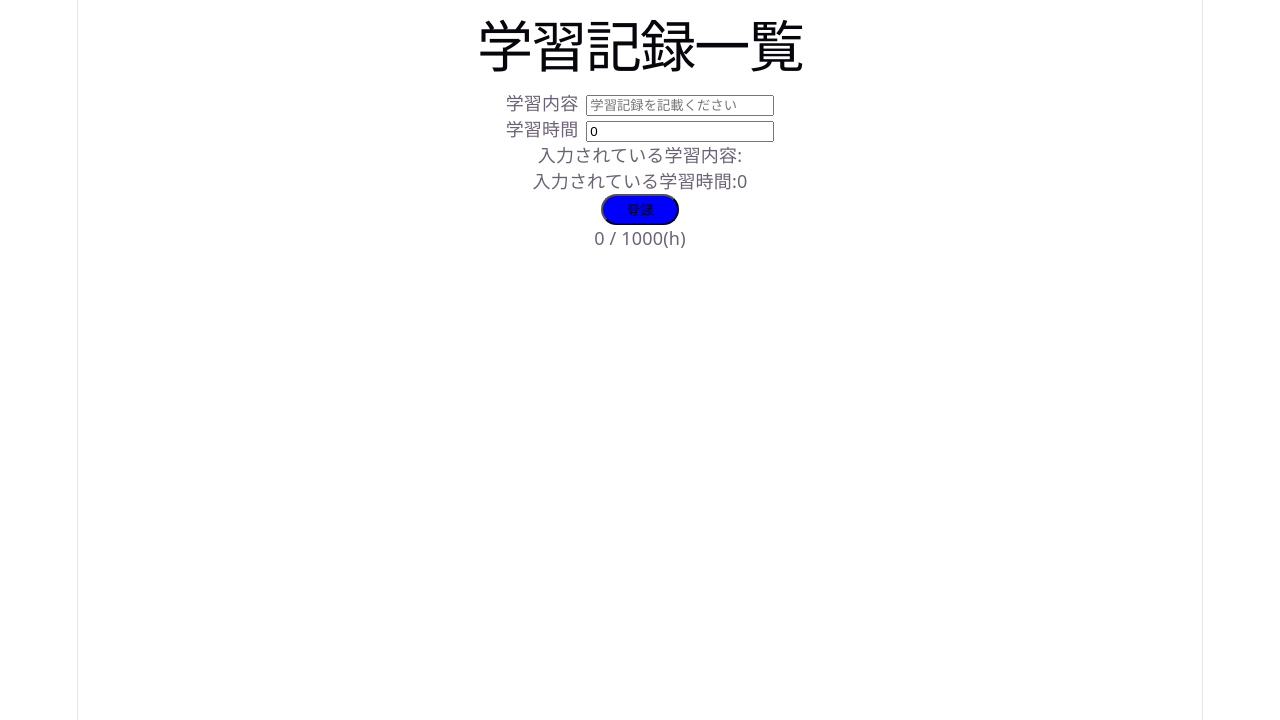
App › 登録ボタンで追加される
Expected: the text "0 / 1000(h)" is shown, [594,226,686,250]
Type "Vitest" into the field with placeholder "学習記録を記載ください". click: (680, 106)
box: [586,95,774,116]
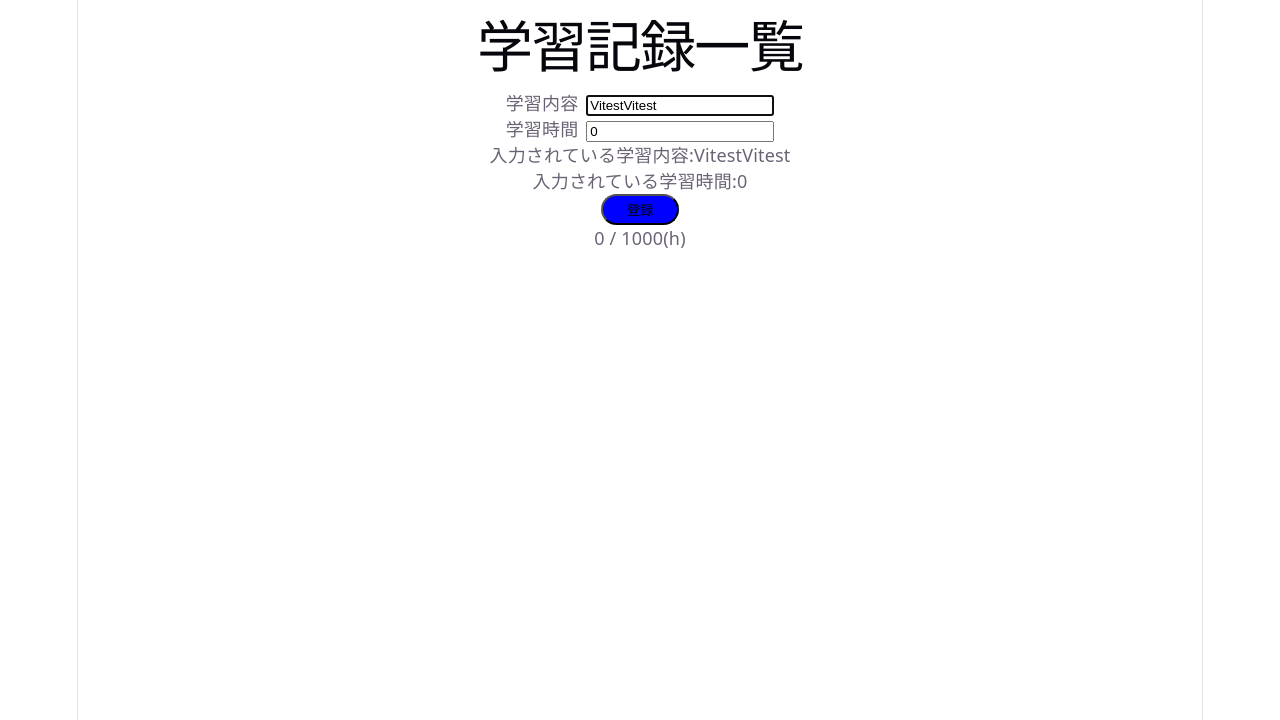
Replace the text in the number field with placeholder "学習時間を記載ください" with "2". click: (680, 132)
box: [586,121,774,142]
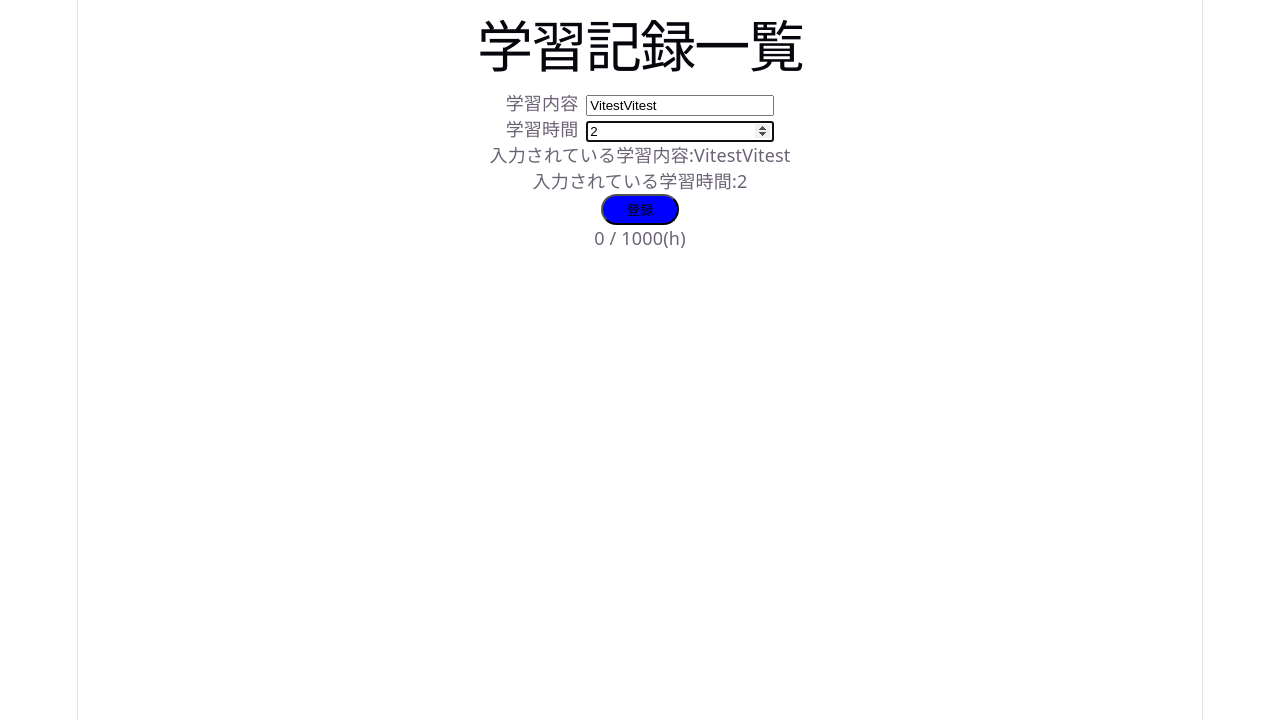
Click the button "登録". click: (640, 210)
box: [601,194,679,226]
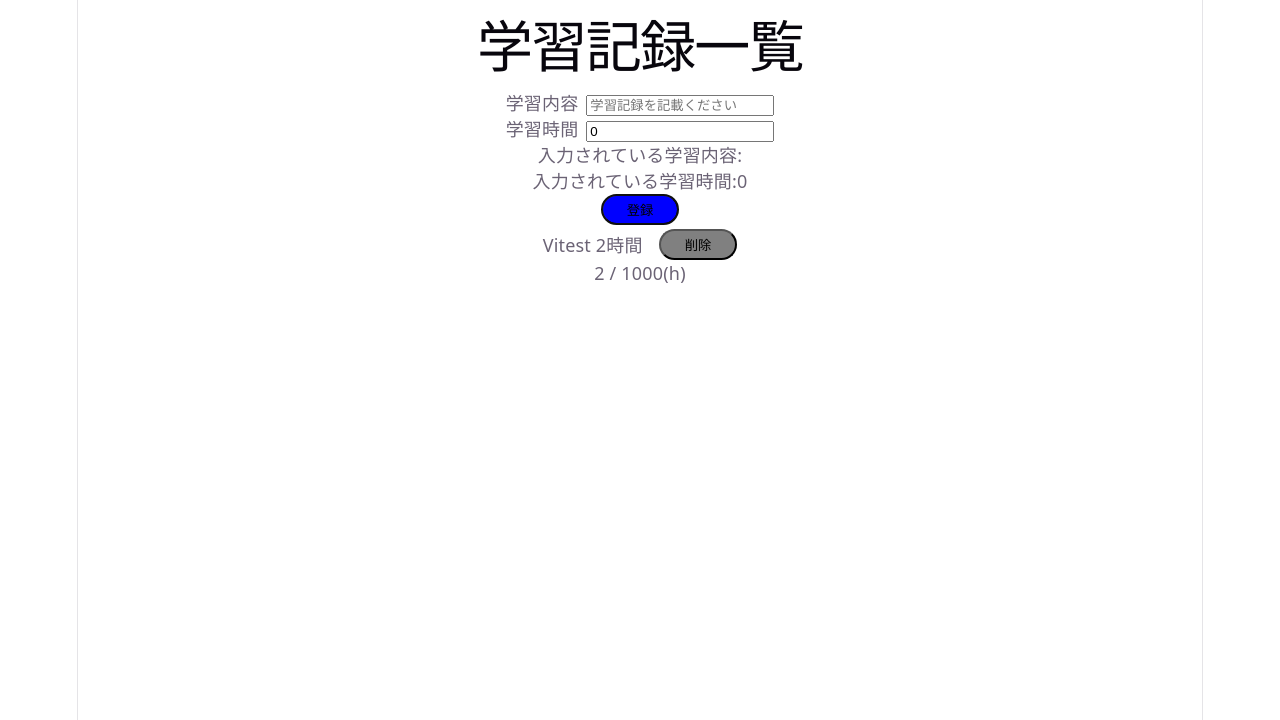
Result: the text "Vitest 2時間 削除" is shown at [543,230,737,260]
Result: the text "2 / 1000(h)" is shown at [594,262,686,286]
